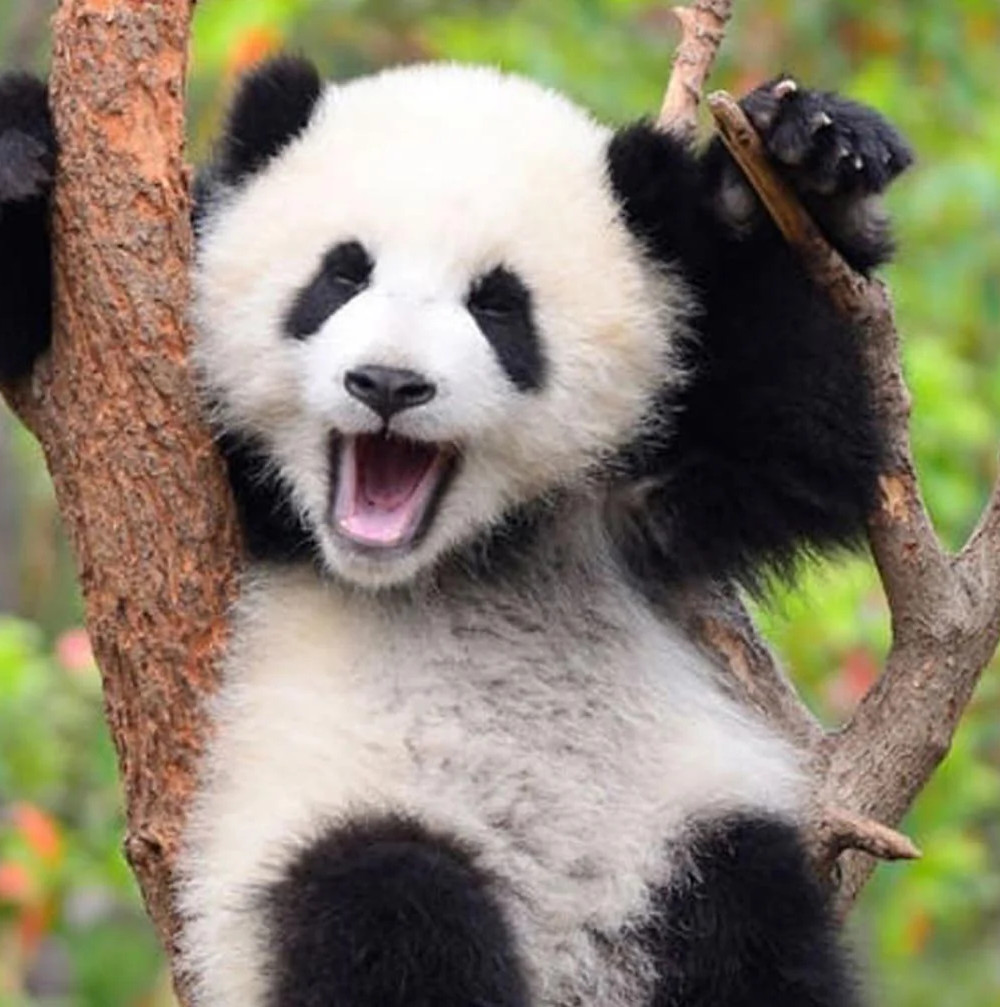Giant panda: (181, 46, 691, 592)
